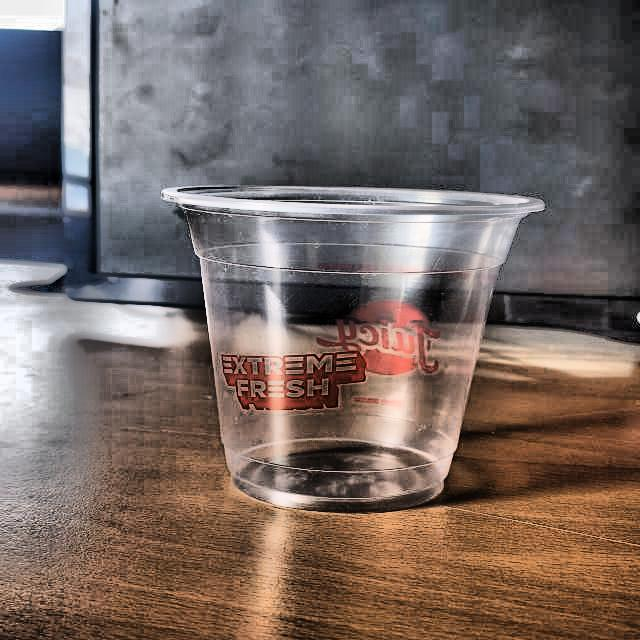plastic cup: (160, 180, 541, 511)
